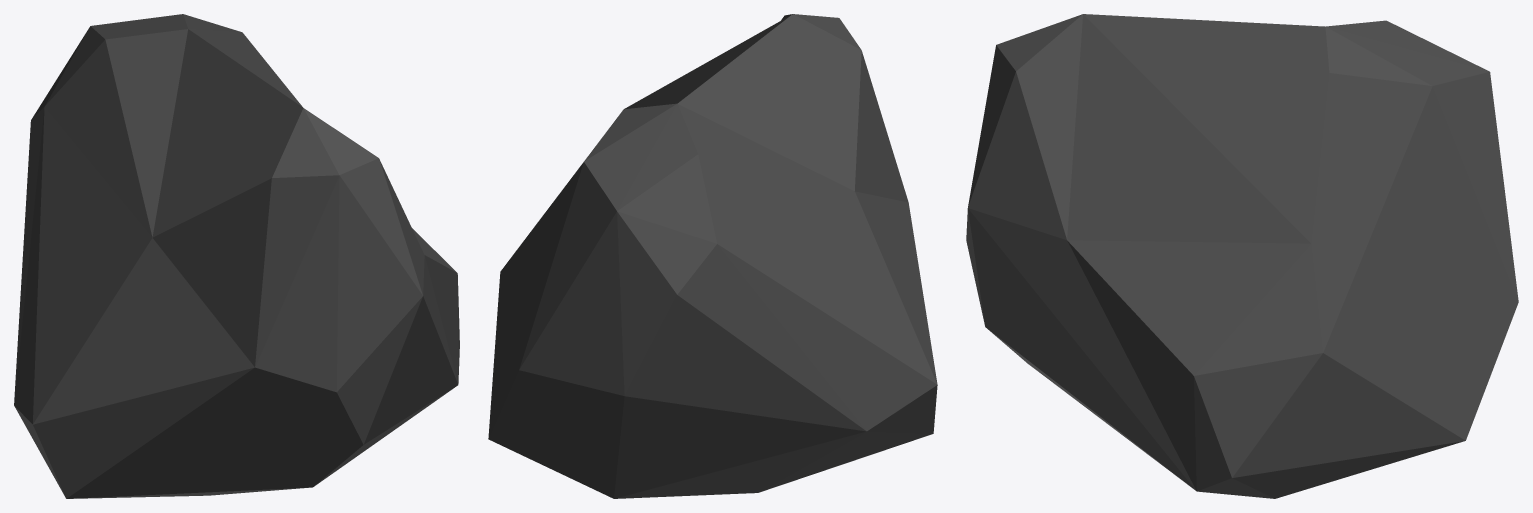
The model's file is Rock_01.fbx.
The picture shows the model from 3 angles, left to right: view 1: azimuth 30°, elevation 25°; view 2: azimuth 150°, elevation 25°; view 3: azimuth 270°, elevation 25°; orthographic projection. The views are drawn at different scales.
Visible parts, largest first — view 1: Rock_01; view 2: Rock_01; view 3: Rock_01.
Boxes of the visible parts, box(x1,y1,x2,y2) form: Rock_01: box(14, 14, 459, 498); Rock_01: box(488, 14, 937, 498); Rock_01: box(966, 14, 1518, 498).
Bounding box in the file's own units: 9.44 × 8.8 × 10.08.
